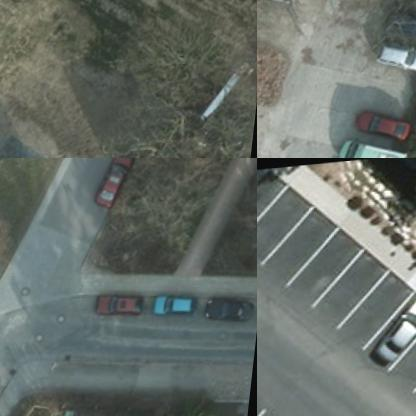car: (371, 293, 415, 368), (90, 158, 140, 214), (354, 109, 415, 146), (90, 296, 148, 324), (204, 300, 256, 330), (150, 294, 200, 324), (378, 43, 415, 80), (340, 139, 414, 157), (390, 9, 415, 47), (262, 0, 302, 9)
